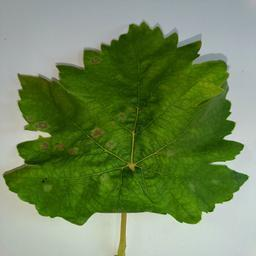Powdery-Mildew: (38, 138, 79, 161), (194, 76, 222, 103), (84, 127, 116, 150), (96, 169, 113, 198), (32, 112, 49, 129)
